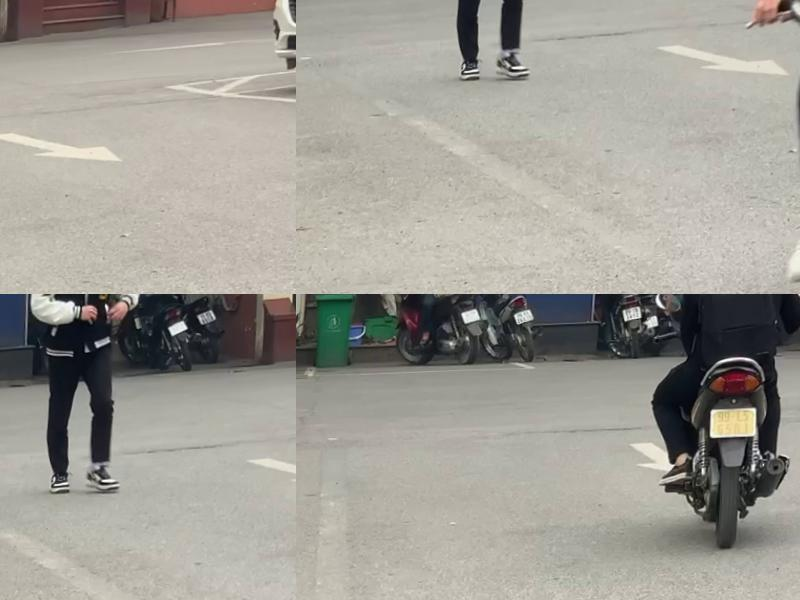license_plate: (711, 412, 762, 445), (623, 305, 646, 328), (514, 309, 537, 331), (168, 322, 190, 342), (196, 312, 218, 332), (464, 311, 484, 330)
motorcyclist: (647, 294, 800, 555)
